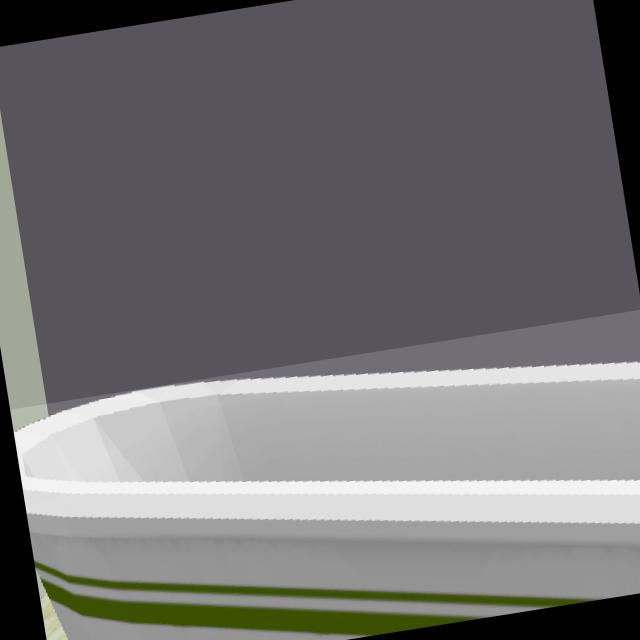bathtube: (14, 363, 640, 640)
